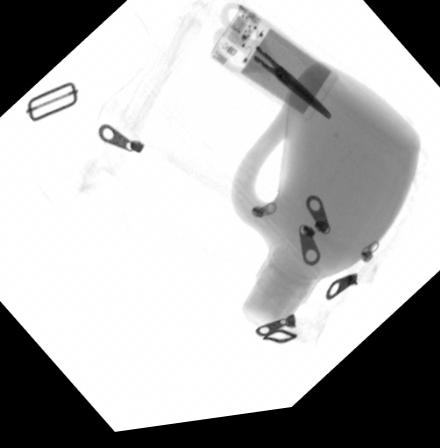Powerbank: (211, 9, 338, 131)
Scissors: (210, 8, 336, 133)
